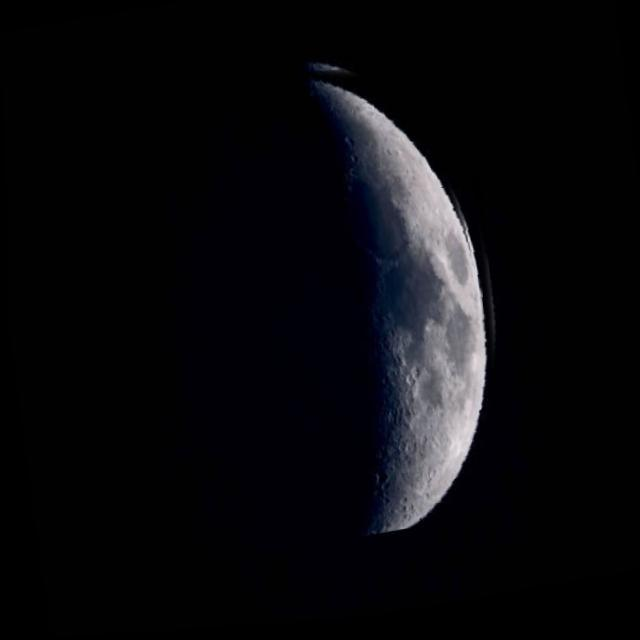moon: (140, 30, 530, 568)
